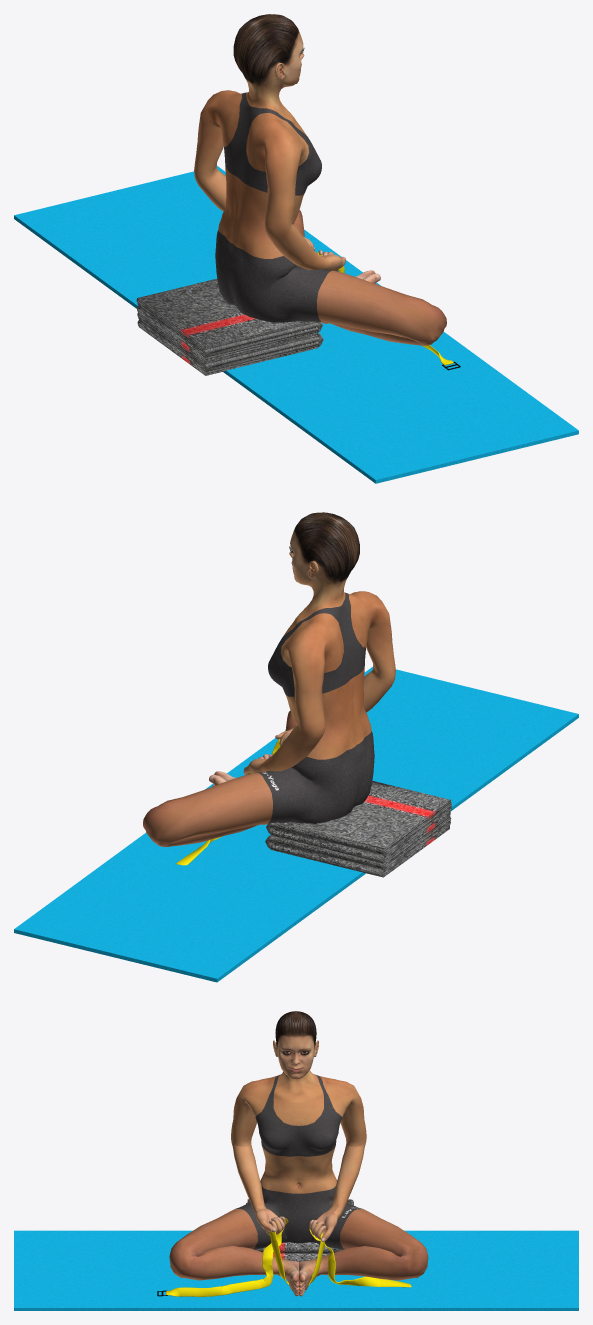
The model's file is baddha_konasana.glb.
The picture shows the model from 3 angles, top to bottom: view 1: azimuth 30°, elevation 25°; view 2: azimuth 150°, elevation 25°; view 3: azimuth 270°, elevation 25°; orthographic projection. The views are drawn at different scales.
Parts seen in each view (by area): view 1: mat_001-material, FemaleSkin-material, Blanket_001-material (×2); view 2: mat_001-material, FemaleSkin-material, Blanket_001-material (×2); view 3: mat_001-material, FemaleSkin-material, belt_005-material, Blanket_001-material.
Boxes of the visible parts, x1,y1,x2,y2 form: mat_001-material: (14,166,578,483); FemaleSkin-material: (194,14,446,345); Blanket_001-material (×2): (136,278,323,375); mat_001-material: (14,667,578,982); FemaleSkin-material: (143,512,395,847); Blanket_001-material (×2): (265,781,451,877); mat_001-material: (14,1230,578,1310); FemaleSkin-material: (169,1011,428,1296); belt_005-material: (166,1218,411,1296); Blanket_001-material: (246,1199,353,1253).
Size of the model in its own units: 2.21 by 2.98 by 6.17.
Materials: 5 (3 with a texture image).
